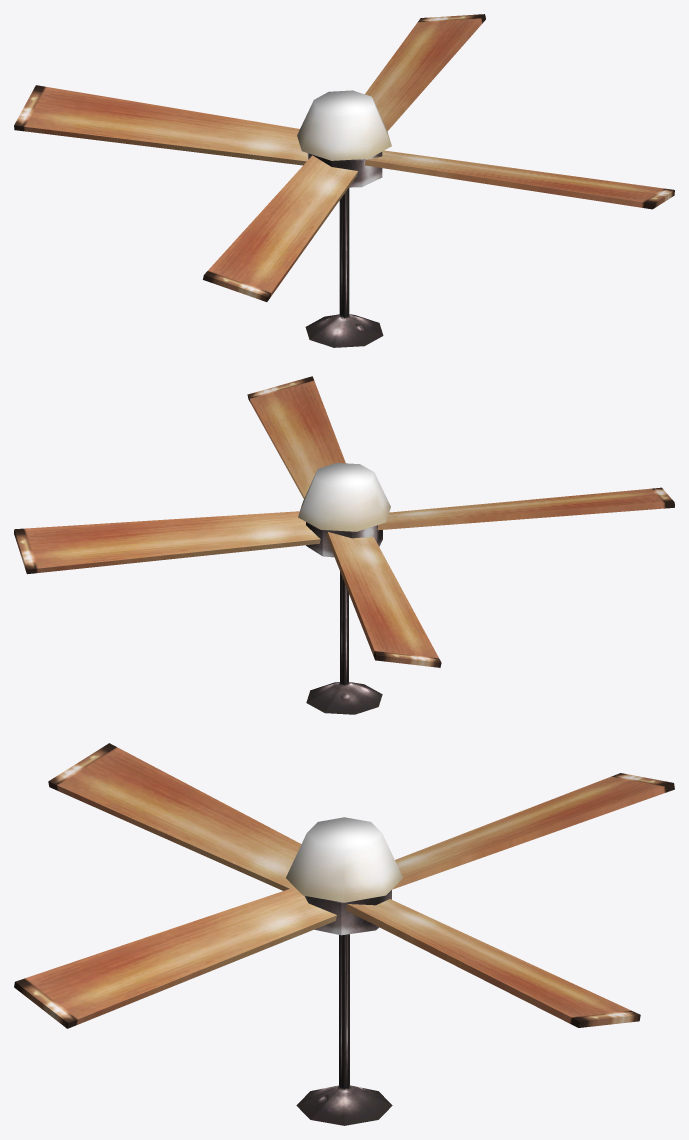
The model's file is fan1.fbx.
The picture shows the model from 3 angles, top to bottom: view 1: azimuth 30°, elevation 25°; view 2: azimuth 150°, elevation 25°; view 3: azimuth 270°, elevation 25°; orthographic projection. The views are drawn at different scales.
Visible parts, largest first — view 1: mesh_0, mesh_1; view 2: mesh_0, mesh_1; view 3: mesh_0, mesh_1.
Part boxes in pixels (<box>): mesh_0: <box>14,14,674,301</box>; mesh_1: <box>297,90,391,347</box>; mesh_0: <box>14,376,674,667</box>; mesh_1: <box>298,463,390,714</box>; mesh_0: <box>14,743,674,1028</box>; mesh_1: <box>286,817,402,1125</box>.
Bounding box in the file's own units: 139 × 62.96 × 139.
1 material, 1 textured.
